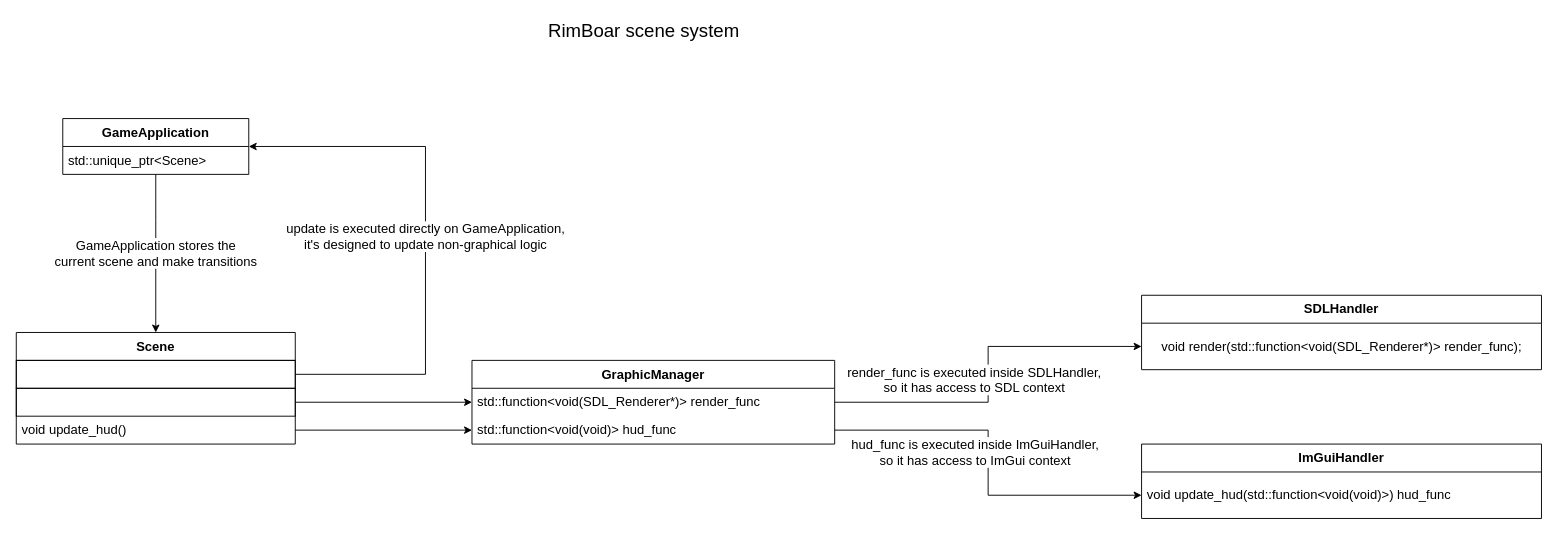
Some shapes in this 1558 by 535 pixel diagram are drawn without their labels. The centre of each missing label's shape, as x and y in pixels:
"void render() const" goes at (155,401).
"void update(const double delta)" goes at (155,373).
